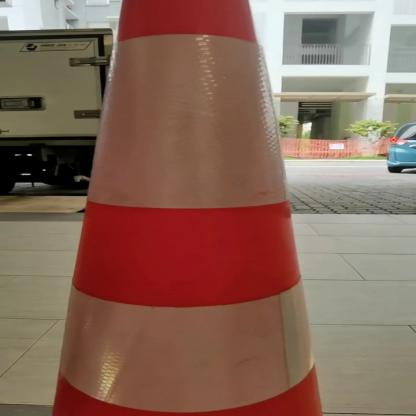cone: (38, 1, 336, 416)
